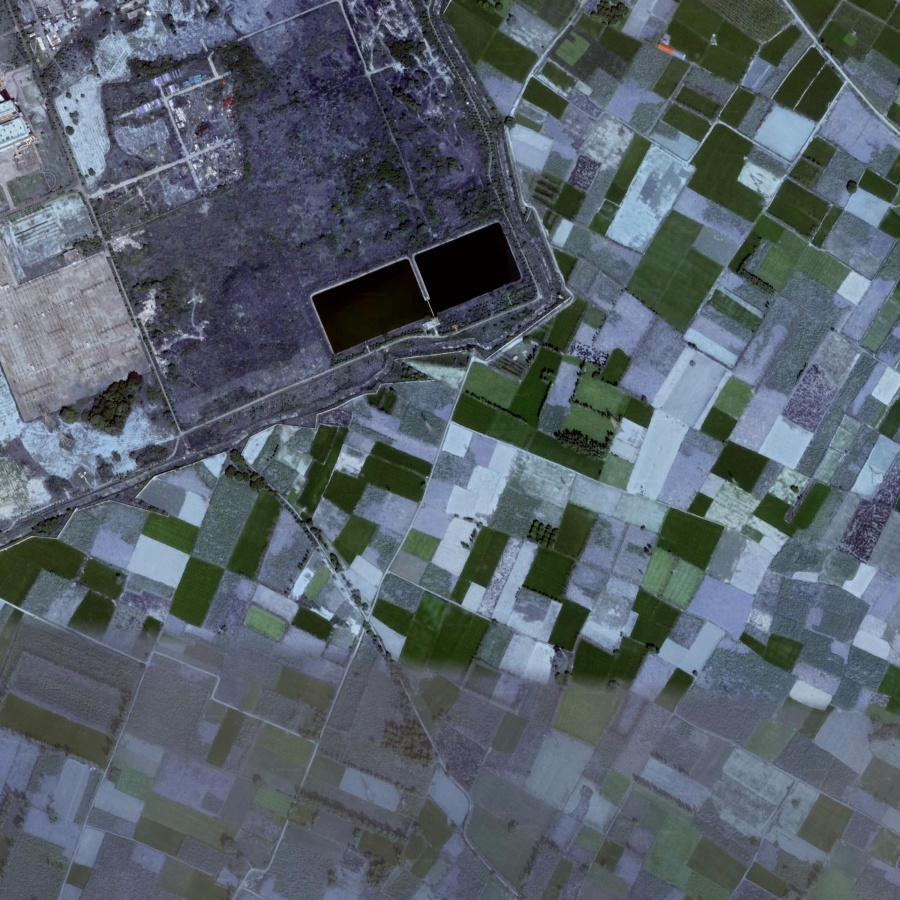PowerPlant: (291, 202, 532, 388)
